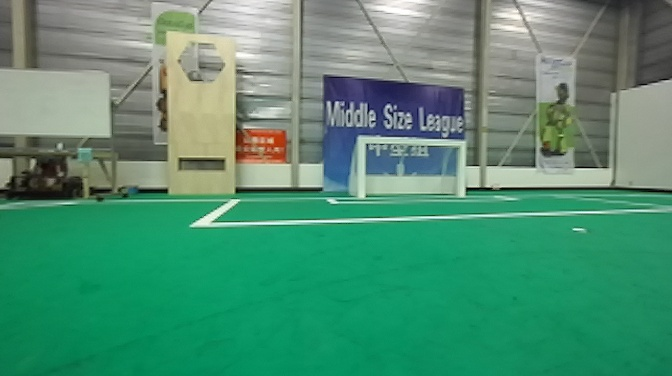ball: (485, 177, 502, 192)
goalpost: (354, 130, 370, 197), (452, 132, 465, 202)
